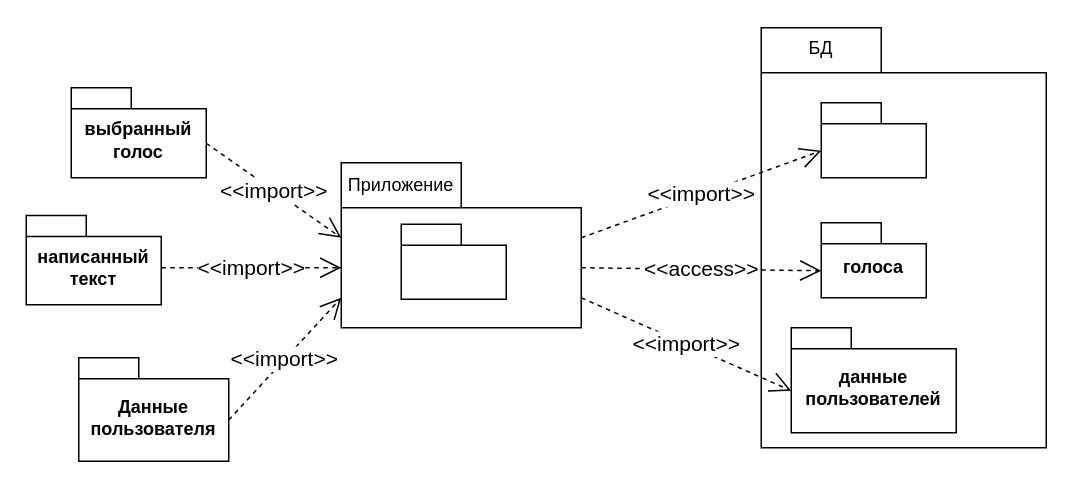
The diagram is 1073 pixels wide and 488 high, and some of its shapes have lost their labels. The centre of each missing label's shape, as x and y in pixels:
UI: (x=453, y=261)
аудиофайл: (x=873, y=139)
